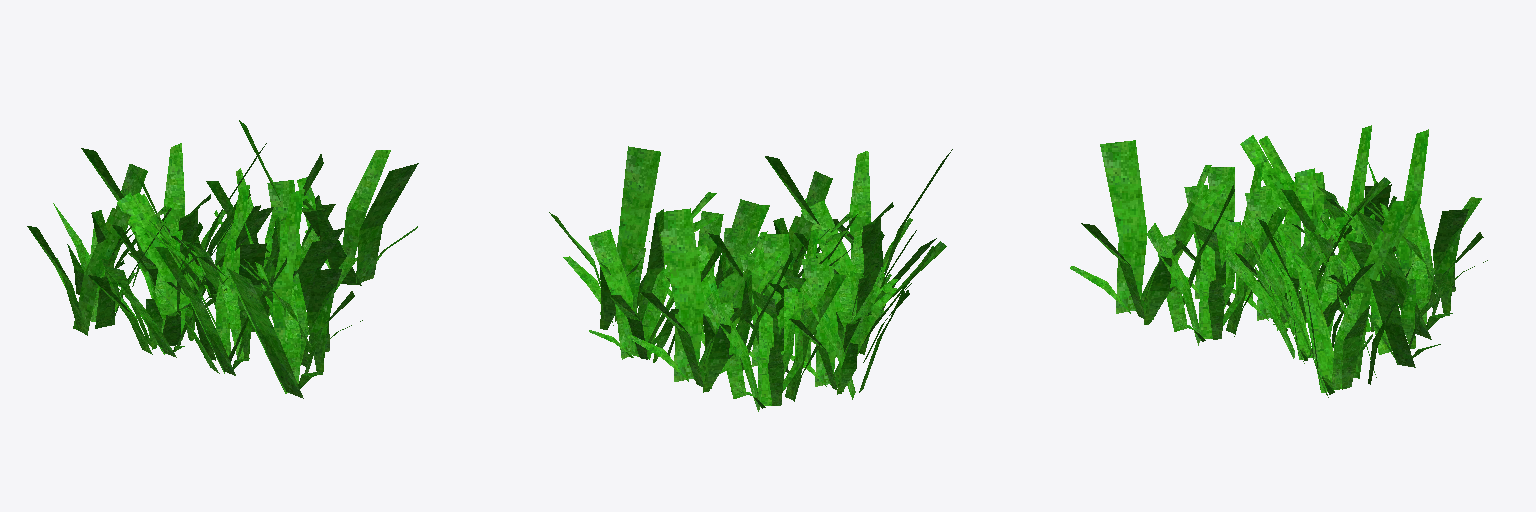
3 views of the same model, side by side, from view 1: azimuth 30°, elevation 25°; view 2: azimuth 150°, elevation 25°; view 3: azimuth 270°, elevation 25° (orthographic).
Parts seen in each view (by area): view 1: LowPoly_Grass_Mesh; view 2: LowPoly_Grass_Mesh; view 3: LowPoly_Grass_Mesh.
Boxes of the visible parts, box(x1,y1,x2,y2) form: LowPoly_Grass_Mesh: box(27, 120, 418, 398); LowPoly_Grass_Mesh: box(549, 146, 952, 411); LowPoly_Grass_Mesh: box(1070, 125, 1487, 397).
Bounding box in the file's own units: 2.22 × 0.9002 × 2.21.
Materials: 1 (1 with a texture image).